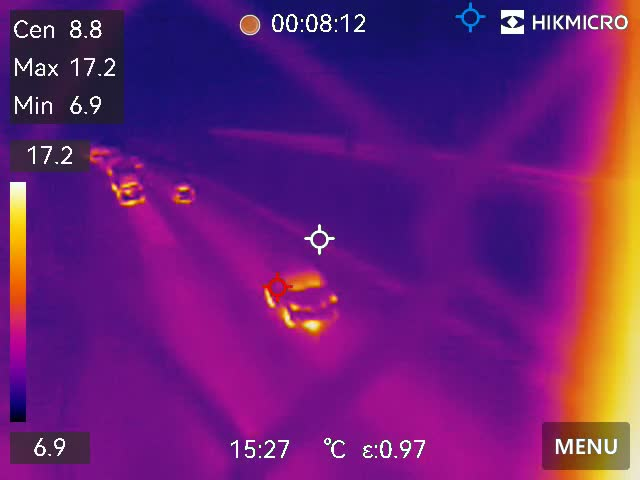vehicle: (266, 251, 341, 334), (104, 164, 154, 211), (169, 175, 192, 209)
